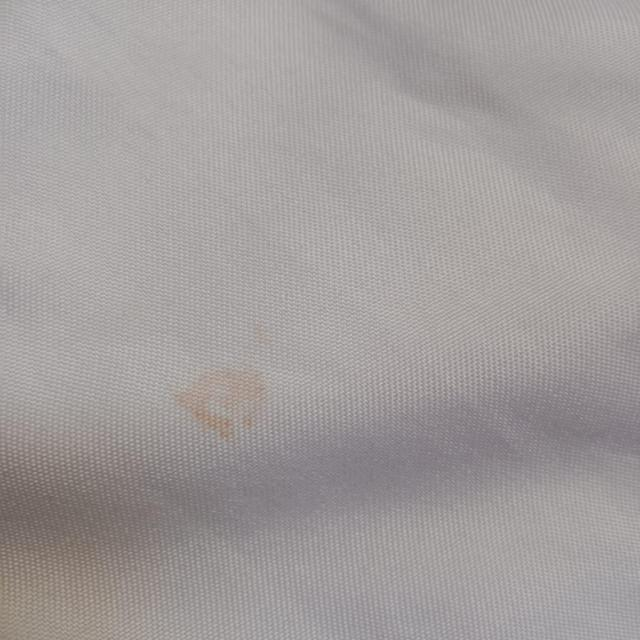stain: (175, 354, 277, 442)
